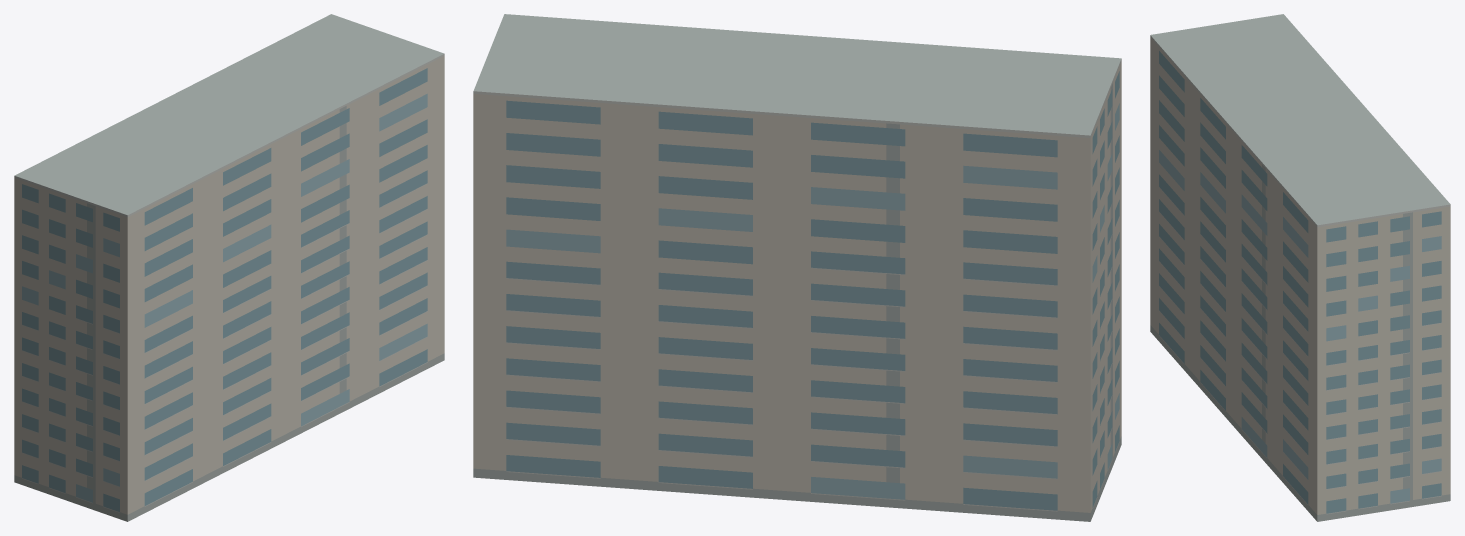
Rendered from residential-e5e94575-c225-4b30-9ee7-e9adb2e94906.glb.
3 renders of one model, left to right at view 1: azimuth 30°, elevation 25°; view 2: azimuth 150°, elevation 25°; view 3: azimuth 270°, elevation 25°, orthographic. The views are drawn at different scales.
Visible parts, largest first — view 1: residential-e5e94575-c225-4b30-9ee7-e9adb2e94906.tmp; view 2: residential-e5e94575-c225-4b30-9ee7-e9adb2e94906.tmp; view 3: residential-e5e94575-c225-4b30-9ee7-e9adb2e94906.tmp.
Boxes of the visible parts, x1,y1,x2,y2 form: residential-e5e94575-c225-4b30-9ee7-e9adb2e94906.tmp: (14,14,444,521); residential-e5e94575-c225-4b30-9ee7-e9adb2e94906.tmp: (473,14,1121,521); residential-e5e94575-c225-4b30-9ee7-e9adb2e94906.tmp: (1150,14,1450,521).
Bounding box in the file's own units: 56.55 × 37 × 33.99.
